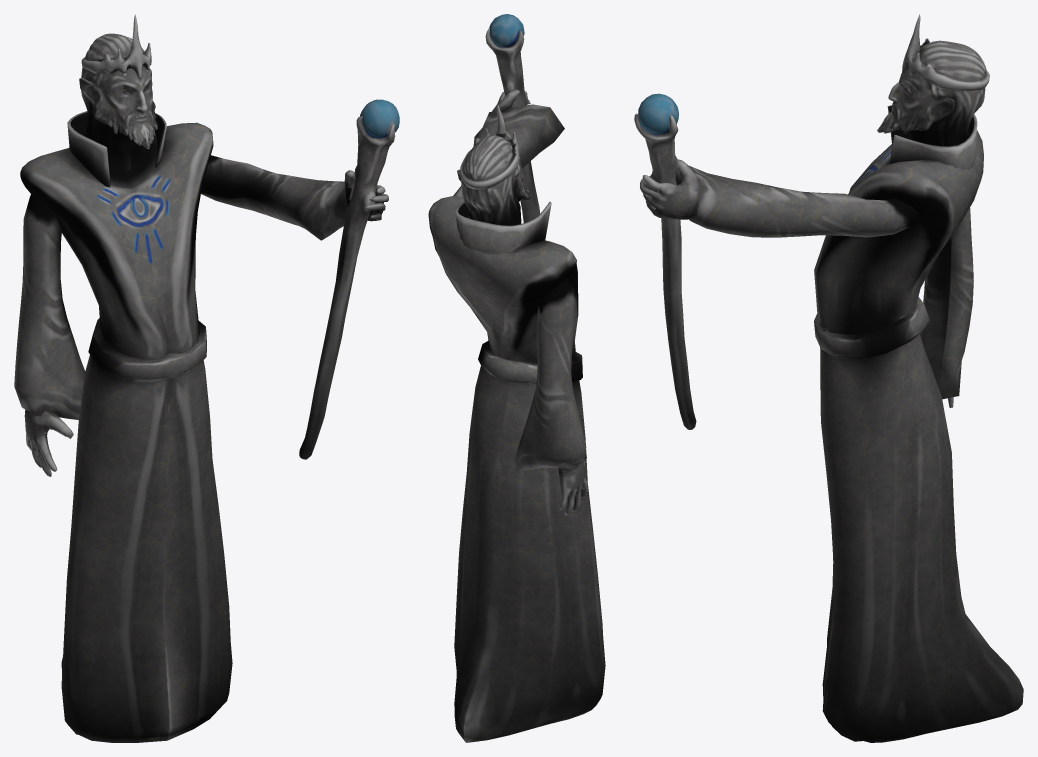
The model's file is Updated Statue 1.fbx.
3 renders of one model, left to right at view 1: azimuth 30°, elevation 25°; view 2: azimuth 150°, elevation 25°; view 3: azimuth 270°, elevation 25°, orthographic. The views are drawn at different scales.
Parts seen in each view (by area): view 1: Statue_1; view 2: Statue_1; view 3: Statue_1.
Part boxes in pixels (left/top/right/bottom): Statue_1: left=14, top=14, right=399, bottom=742; Statue_1: left=428, top=14, right=605, bottom=742; Statue_1: left=634, top=14, right=1023, bottom=742.
Size of the model in its own units: 6.26 by 16.94 by 8.44.
